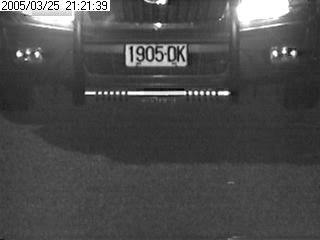plate: (123, 40, 189, 69)
